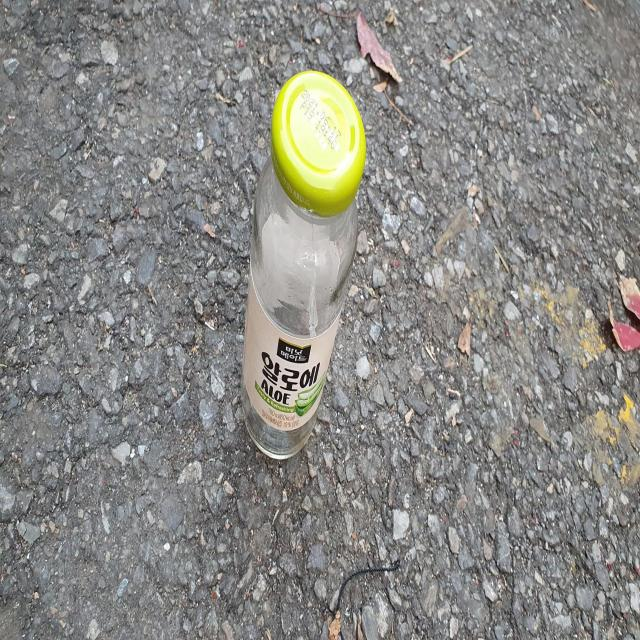glass: (241, 69, 366, 458)
